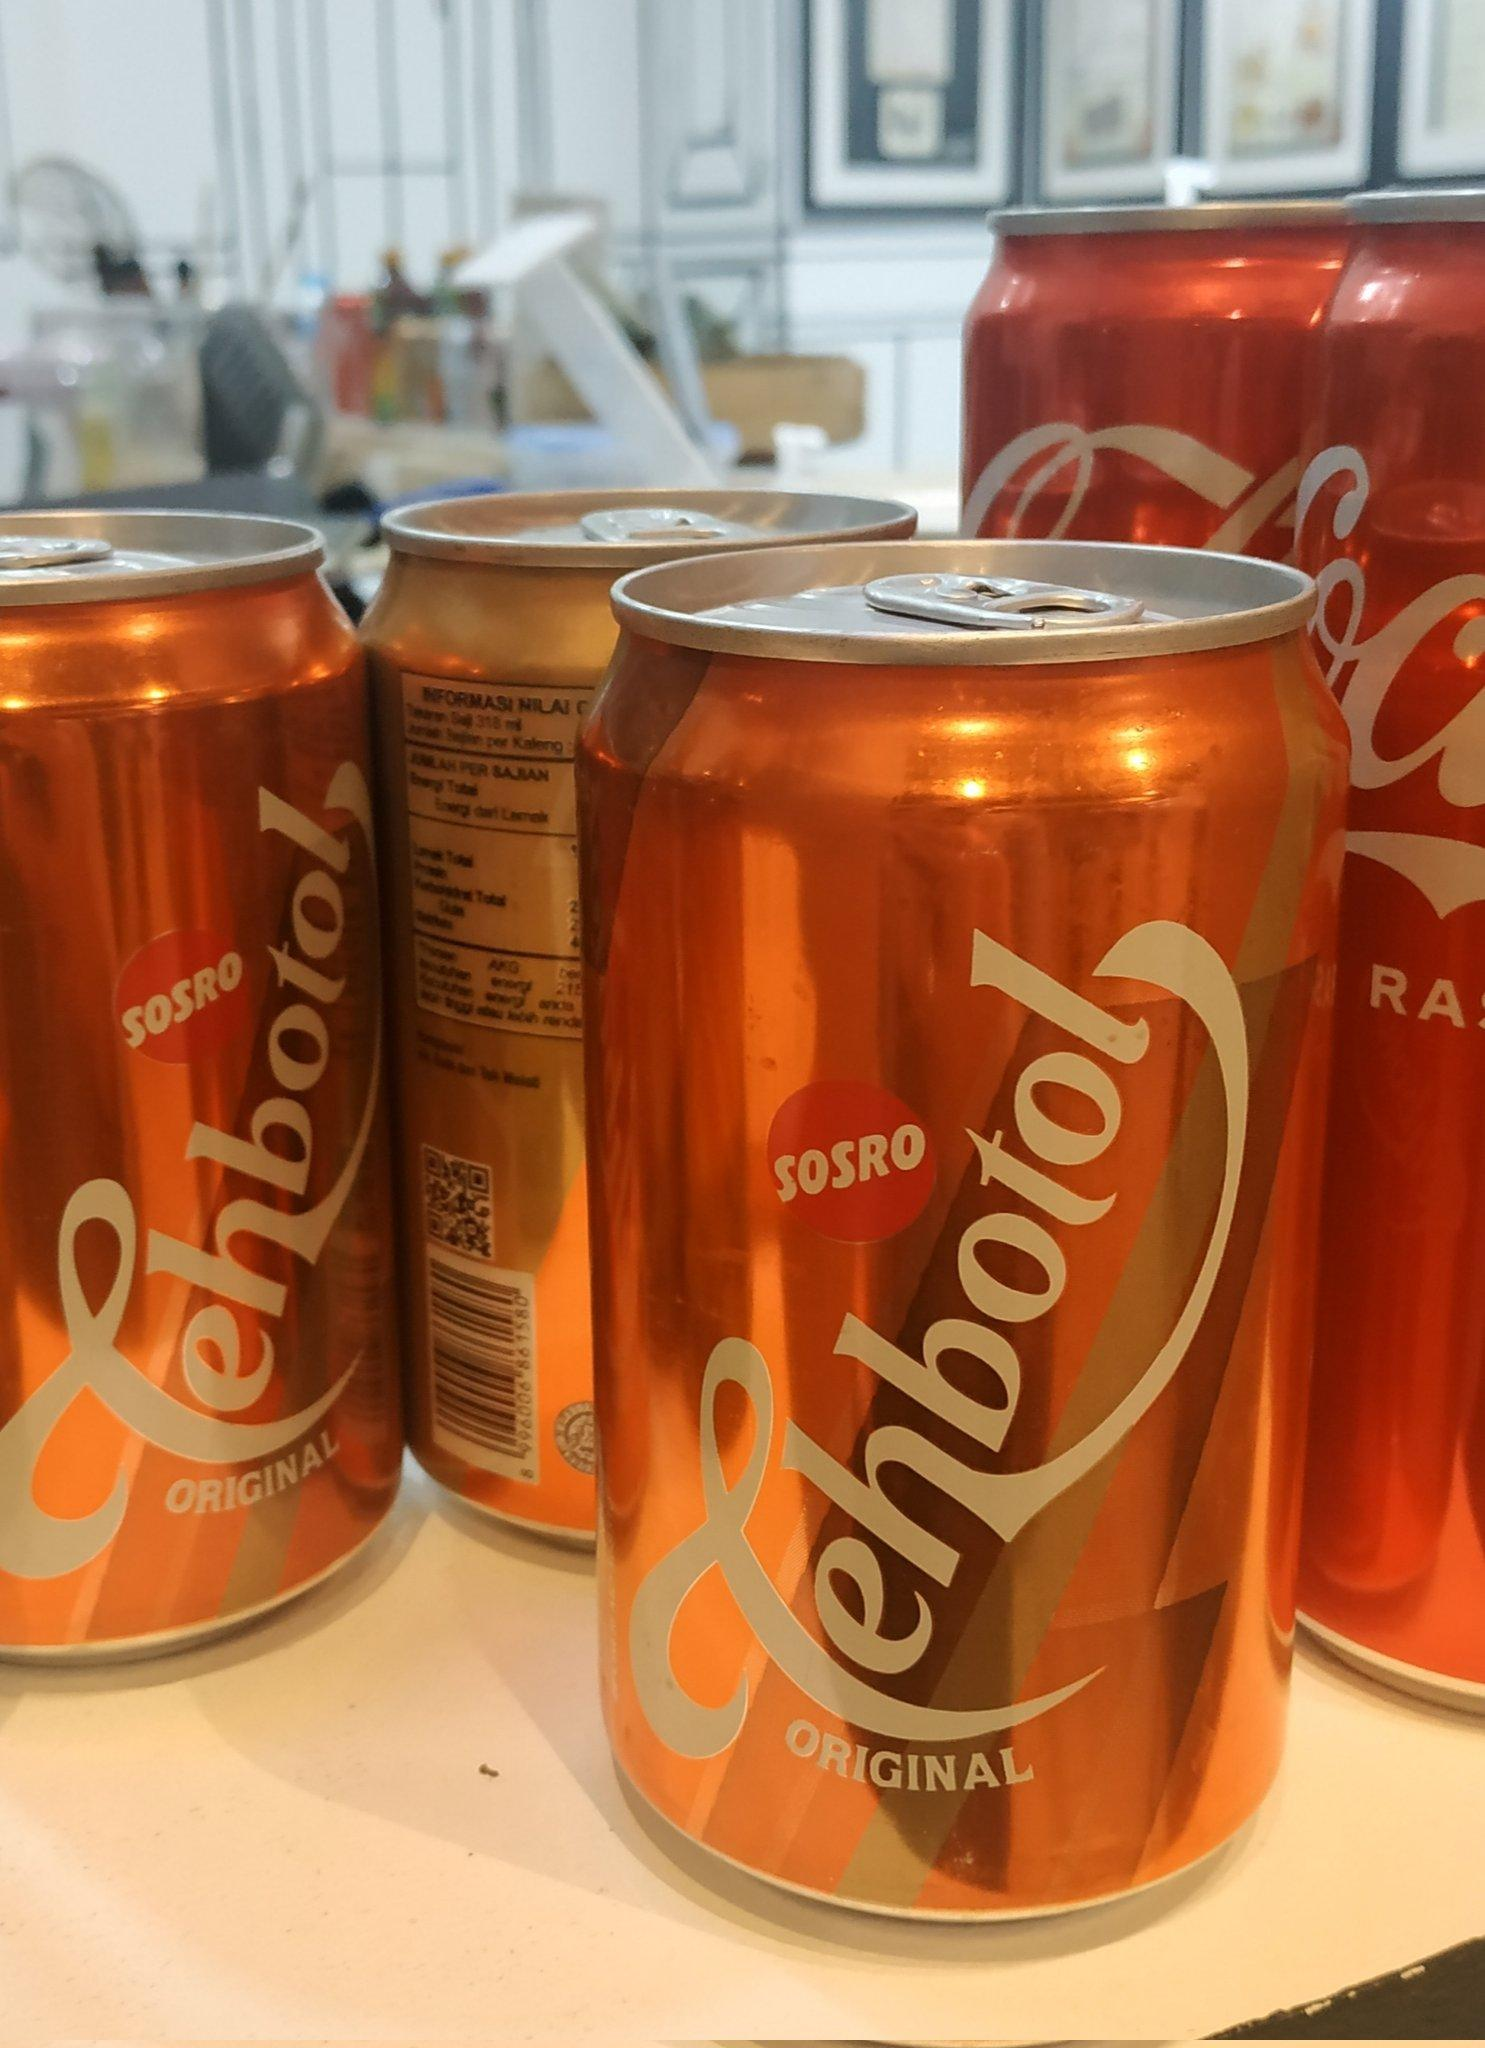metal: (499, 487, 1340, 1887), (930, 176, 1485, 1706), (0, 490, 603, 1670)
